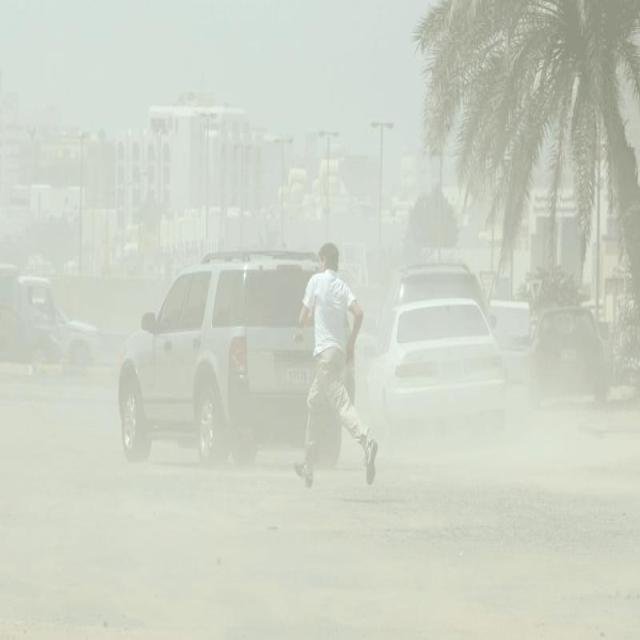Car: (116, 251, 357, 464), (366, 300, 508, 434), (369, 267, 499, 356), (525, 305, 610, 412), (56, 309, 102, 364)
Truck: (0, 261, 57, 362), (0, 346, 2, 348)
Van: (488, 298, 533, 347)
